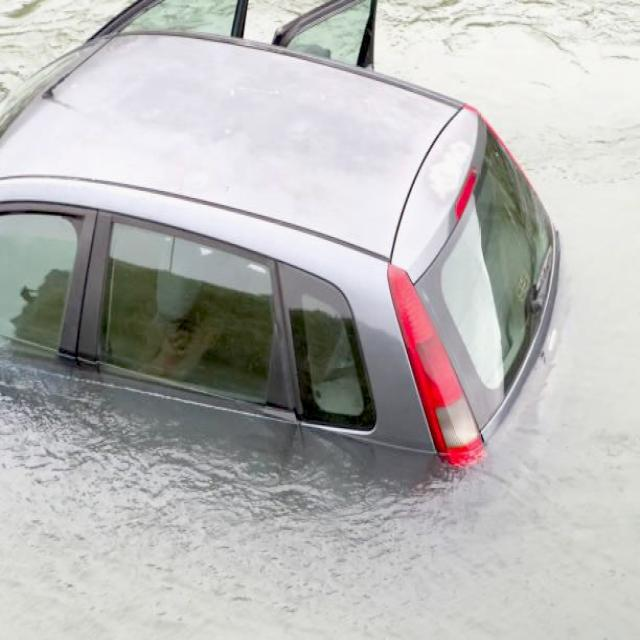water: (4, 2, 635, 638), (0, 1, 129, 111), (242, 0, 329, 44)
